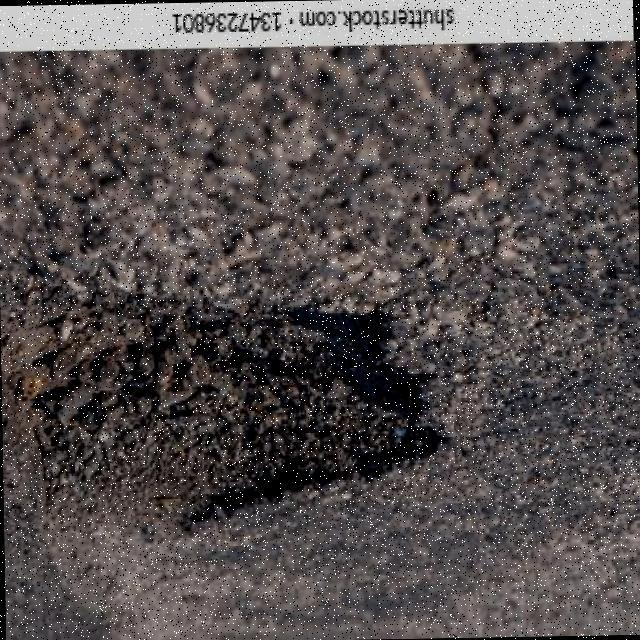Pothole: (5, 257, 452, 536)
